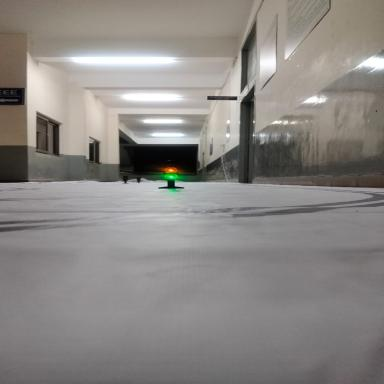green: (139, 155, 203, 194)
